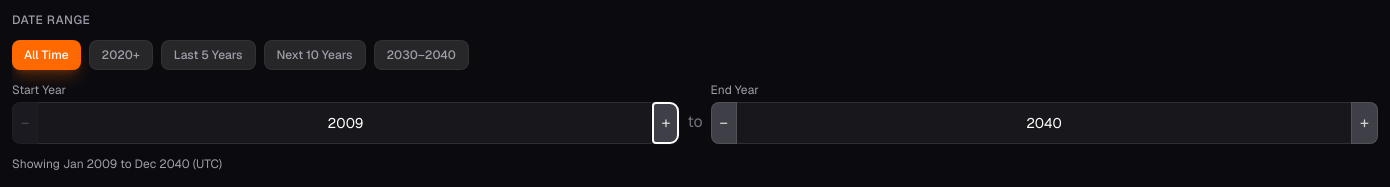
Test: controls › increments the initial 2009 start year to 2010
The width and height of the screenshot is (1390, 187).
Check: the field labelled "Start Year" holds "2009", box [38, 102, 652, 144]
Click the button named "Increase start year" at (666, 123), box [652, 102, 679, 144]
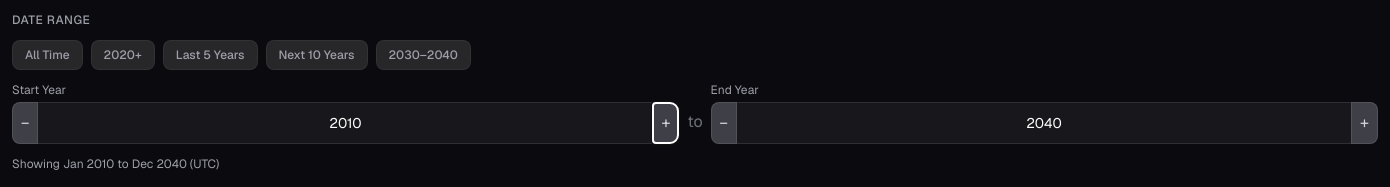
Check: the field labelled "Start Year" holds "2010", box [38, 102, 652, 144]
